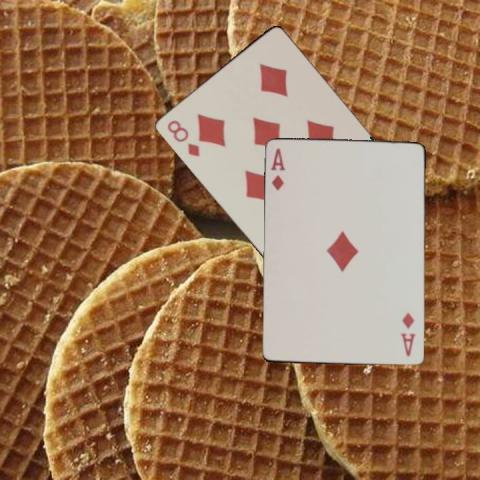8d: (163, 116, 201, 158)
Ad: (398, 309, 417, 359), (268, 145, 287, 193)
